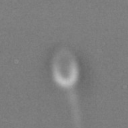normal: (64, 90, 88, 128)
